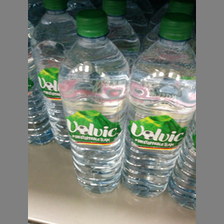water: (60, 9, 127, 193), (128, 12, 194, 195)
